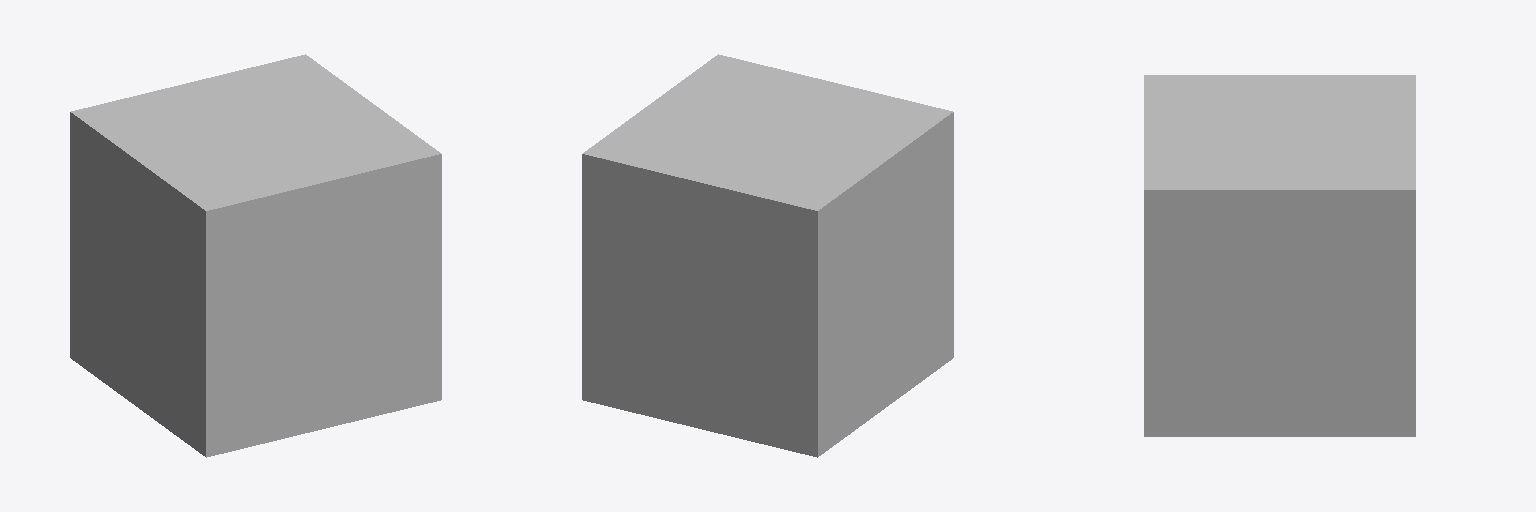
3 views of the same model, side by side, from view 1: azimuth 30°, elevation 25°; view 2: azimuth 150°, elevation 25°; view 3: azimuth 270°, elevation 25° (orthographic).
Visible parts, largest first — view 1: Regroup00; view 2: Regroup00; view 3: Regroup00.
Part boxes in pixels (bbox=[...]): Regroup00: bbox=[70, 54, 441, 457]; Regroup00: bbox=[582, 54, 953, 457]; Regroup00: bbox=[1144, 75, 1415, 436].
Size of the model in its own units: 45.11 by 45.11 by 45.11.